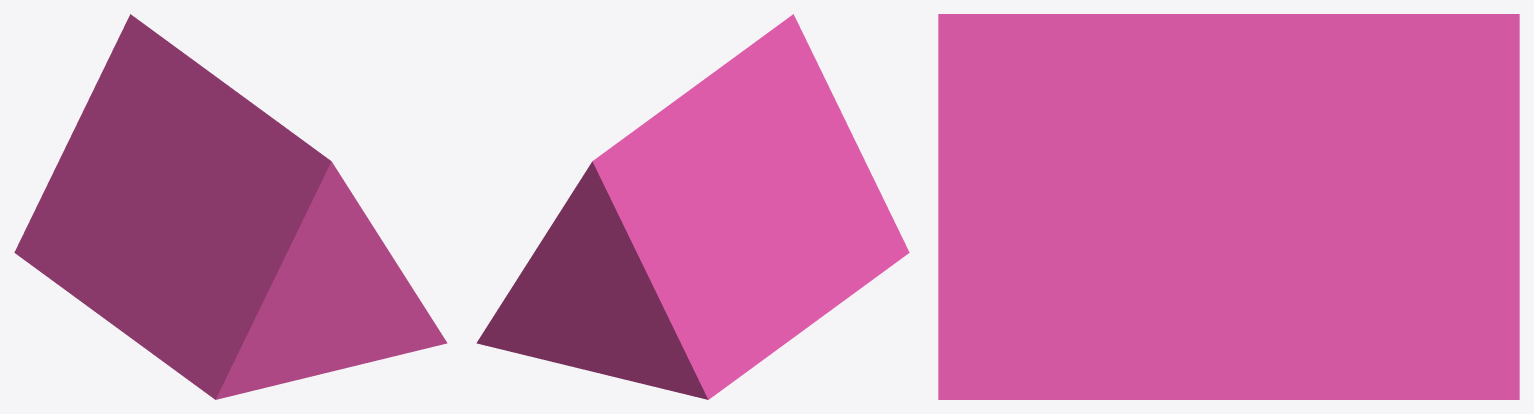
Rendered from solid_prism.glb.
The picture shows the model from 3 angles, left to right: view 1: azimuth 30°, elevation 25°; view 2: azimuth 150°, elevation 25°; view 3: azimuth 270°, elevation 25°; orthographic projection. The views are drawn at different scales.
Visible parts, largest first — view 1: solid_prism; view 2: solid_prism; view 3: solid_prism.
Boxes of the visible parts, x1,y1,x2,y2 form: solid_prism: [14, 14, 447, 399]; solid_prism: [476, 14, 909, 399]; solid_prism: [938, 14, 1519, 399].
Size of the model in its own units: 0.1732 by 0.15 by 0.26.
